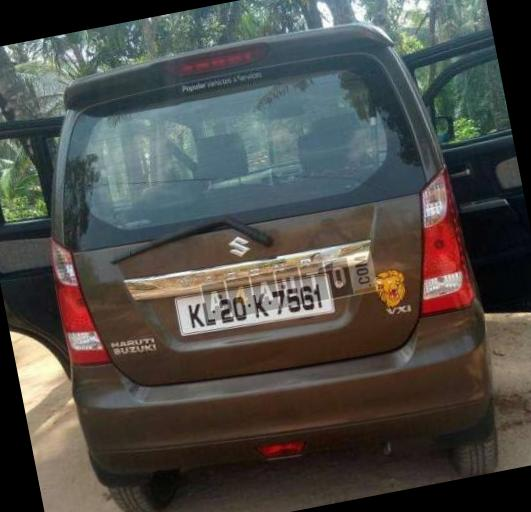plate: (161, 253, 352, 357)
